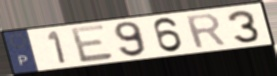1: (45, 30, 69, 66)
3: (226, 9, 262, 44)
6: (152, 17, 185, 54)
9: (113, 20, 148, 58)
E: (68, 23, 116, 65)
R: (183, 11, 229, 50)
